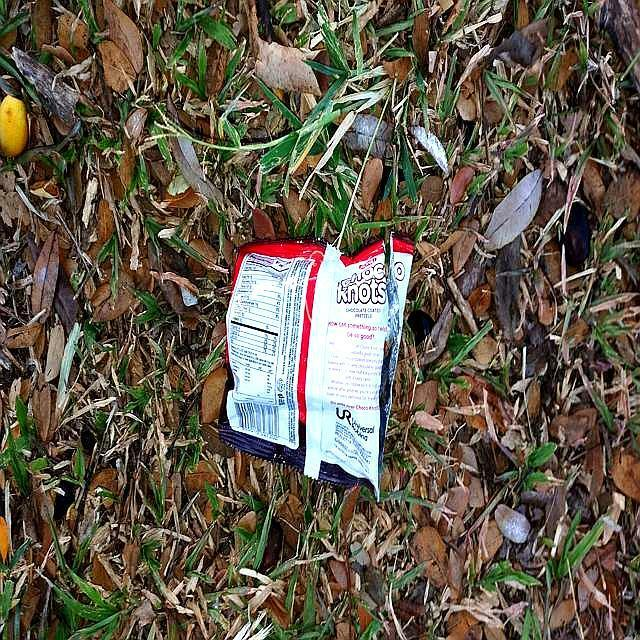Non-biodegradable: (219, 233, 416, 500)
